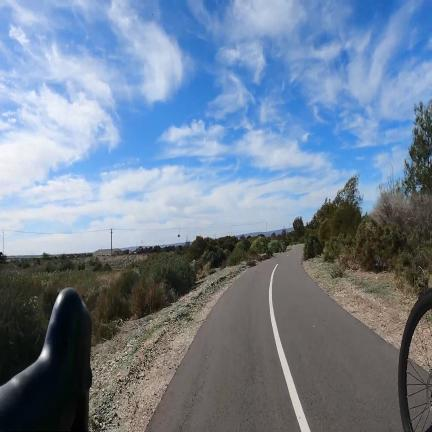Bike_Lane: (147, 246, 402, 432)
